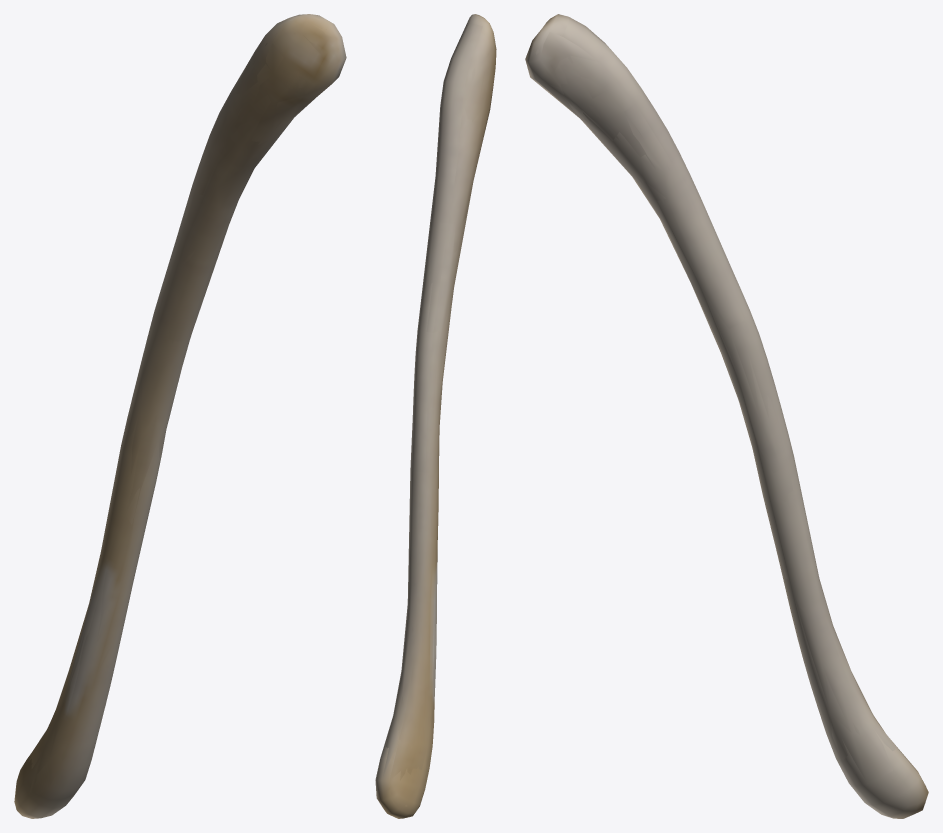
Rendered from L Fibula.fbx.
3 views of the same model, side by side, from view 1: azimuth 30°, elevation 25°; view 2: azimuth 150°, elevation 25°; view 3: azimuth 270°, elevation 25° (orthographic). The views are drawn at different scales.
Visible parts, largest first — view 1: L Fibula, L Fibula low, L Fibula high; view 2: L Fibula, L Fibula low, L Fibula high; view 3: L Fibula low, L Fibula, L Fibula high.
Boxes of the visible parts, bbox=[...] form: L Fibula: bbox=[14, 14, 346, 818]; L Fibula low: bbox=[15, 14, 342, 817]; L Fibula high: bbox=[15, 15, 341, 798]; L Fibula: bbox=[375, 14, 496, 818]; L Fibula low: bbox=[376, 14, 496, 817]; L Fibula high: bbox=[378, 21, 488, 806]; L Fibula low: bbox=[527, 18, 924, 817]; L Fibula: bbox=[525, 14, 928, 818]; L Fibula high: bbox=[529, 17, 923, 815].
Size of the model in its own units: 2.21 by 14.99 by 6.54.
